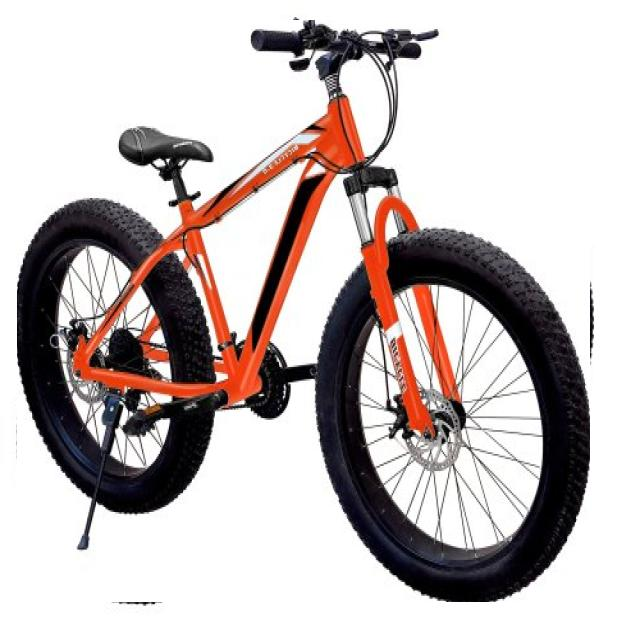bicycle: (18, 20, 590, 602)
